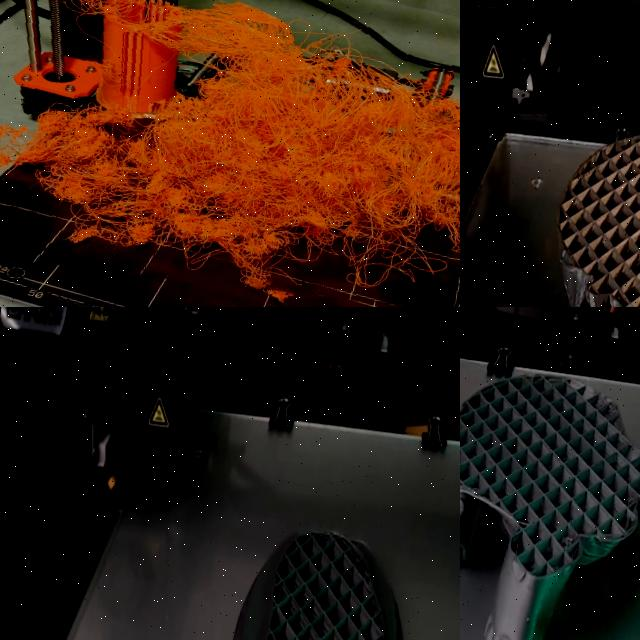spaghetti: (0, 0, 460, 292)
